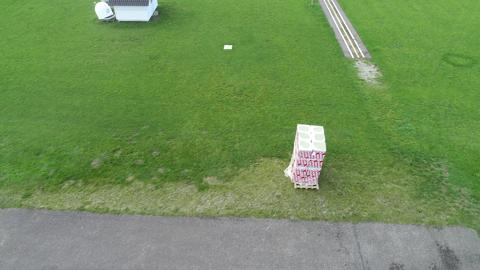RockwoolPallet: (292, 122, 327, 188)
